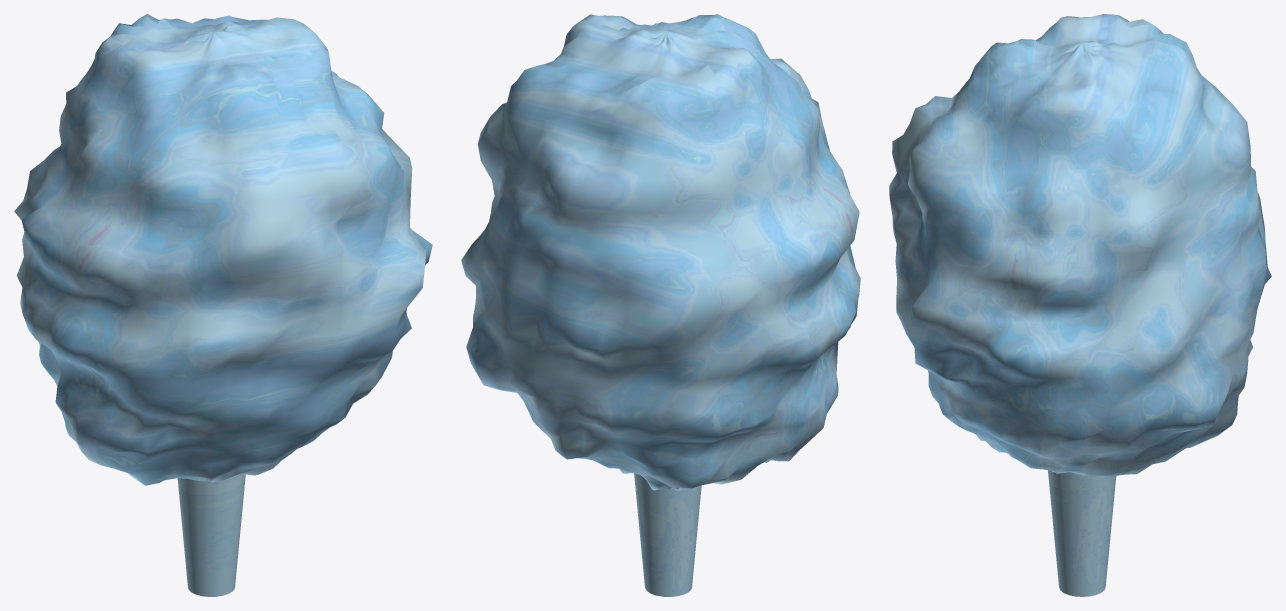
The model's file is Arbol2A.fbx.
The picture shows the model from 3 angles, left to right: view 1: azimuth 30°, elevation 25°; view 2: azimuth 150°, elevation 25°; view 3: azimuth 270°, elevation 25°; orthographic projection.
Visible parts, largest first — view 1: boom_012; view 2: boom_012; view 3: boom_012.
Part boxes in pixels (<box>): boom_012: <box>14,14,432,596</box>; boom_012: <box>461,14,860,596</box>; boom_012: <box>889,14,1271,596</box>.
Size of the model in its own units: 35.1 by 52.22 by 33.19.
Materials: 1 (1 with a texture image).
